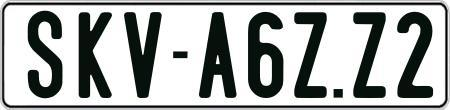2: (397, 9, 435, 95)
6: (245, 12, 283, 104)
A: (196, 11, 236, 101)
K: (78, 11, 113, 101)
S: (25, 11, 65, 103)
V: (123, 12, 162, 101)
Z: (352, 12, 391, 104), (293, 11, 326, 102)
